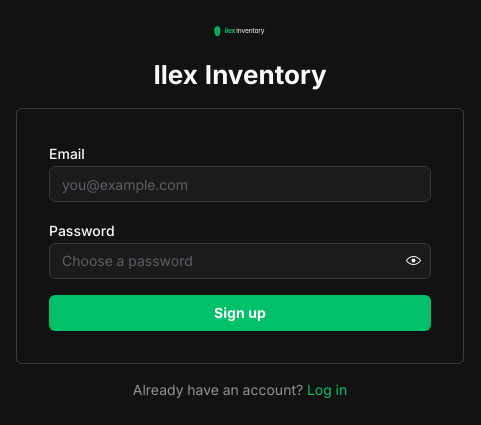
Test: SignupPage › 409 duplicate_email: shows inline error under email field
Type "existing@example.com" into the field labelled "Email" at {"x": 240, "y": 184}, box [49,166,431,202]
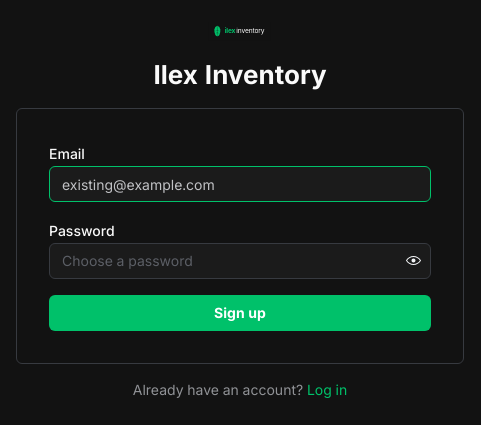
Type "secret123" into the password field labelled "Password" at {"x": 240, "y": 261}, box [50,244,430,278]
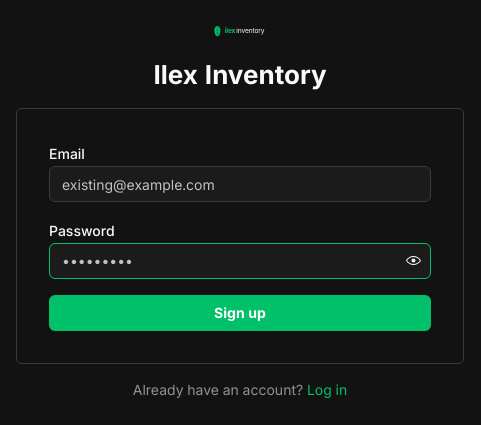
Click the button "Sign up" at {"x": 240, "y": 313}, box [49,295,431,331]
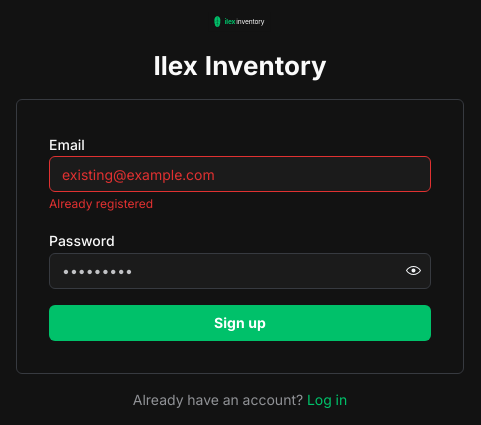
Expected: the text "Already registered" is shown, [49,196,153,211]
